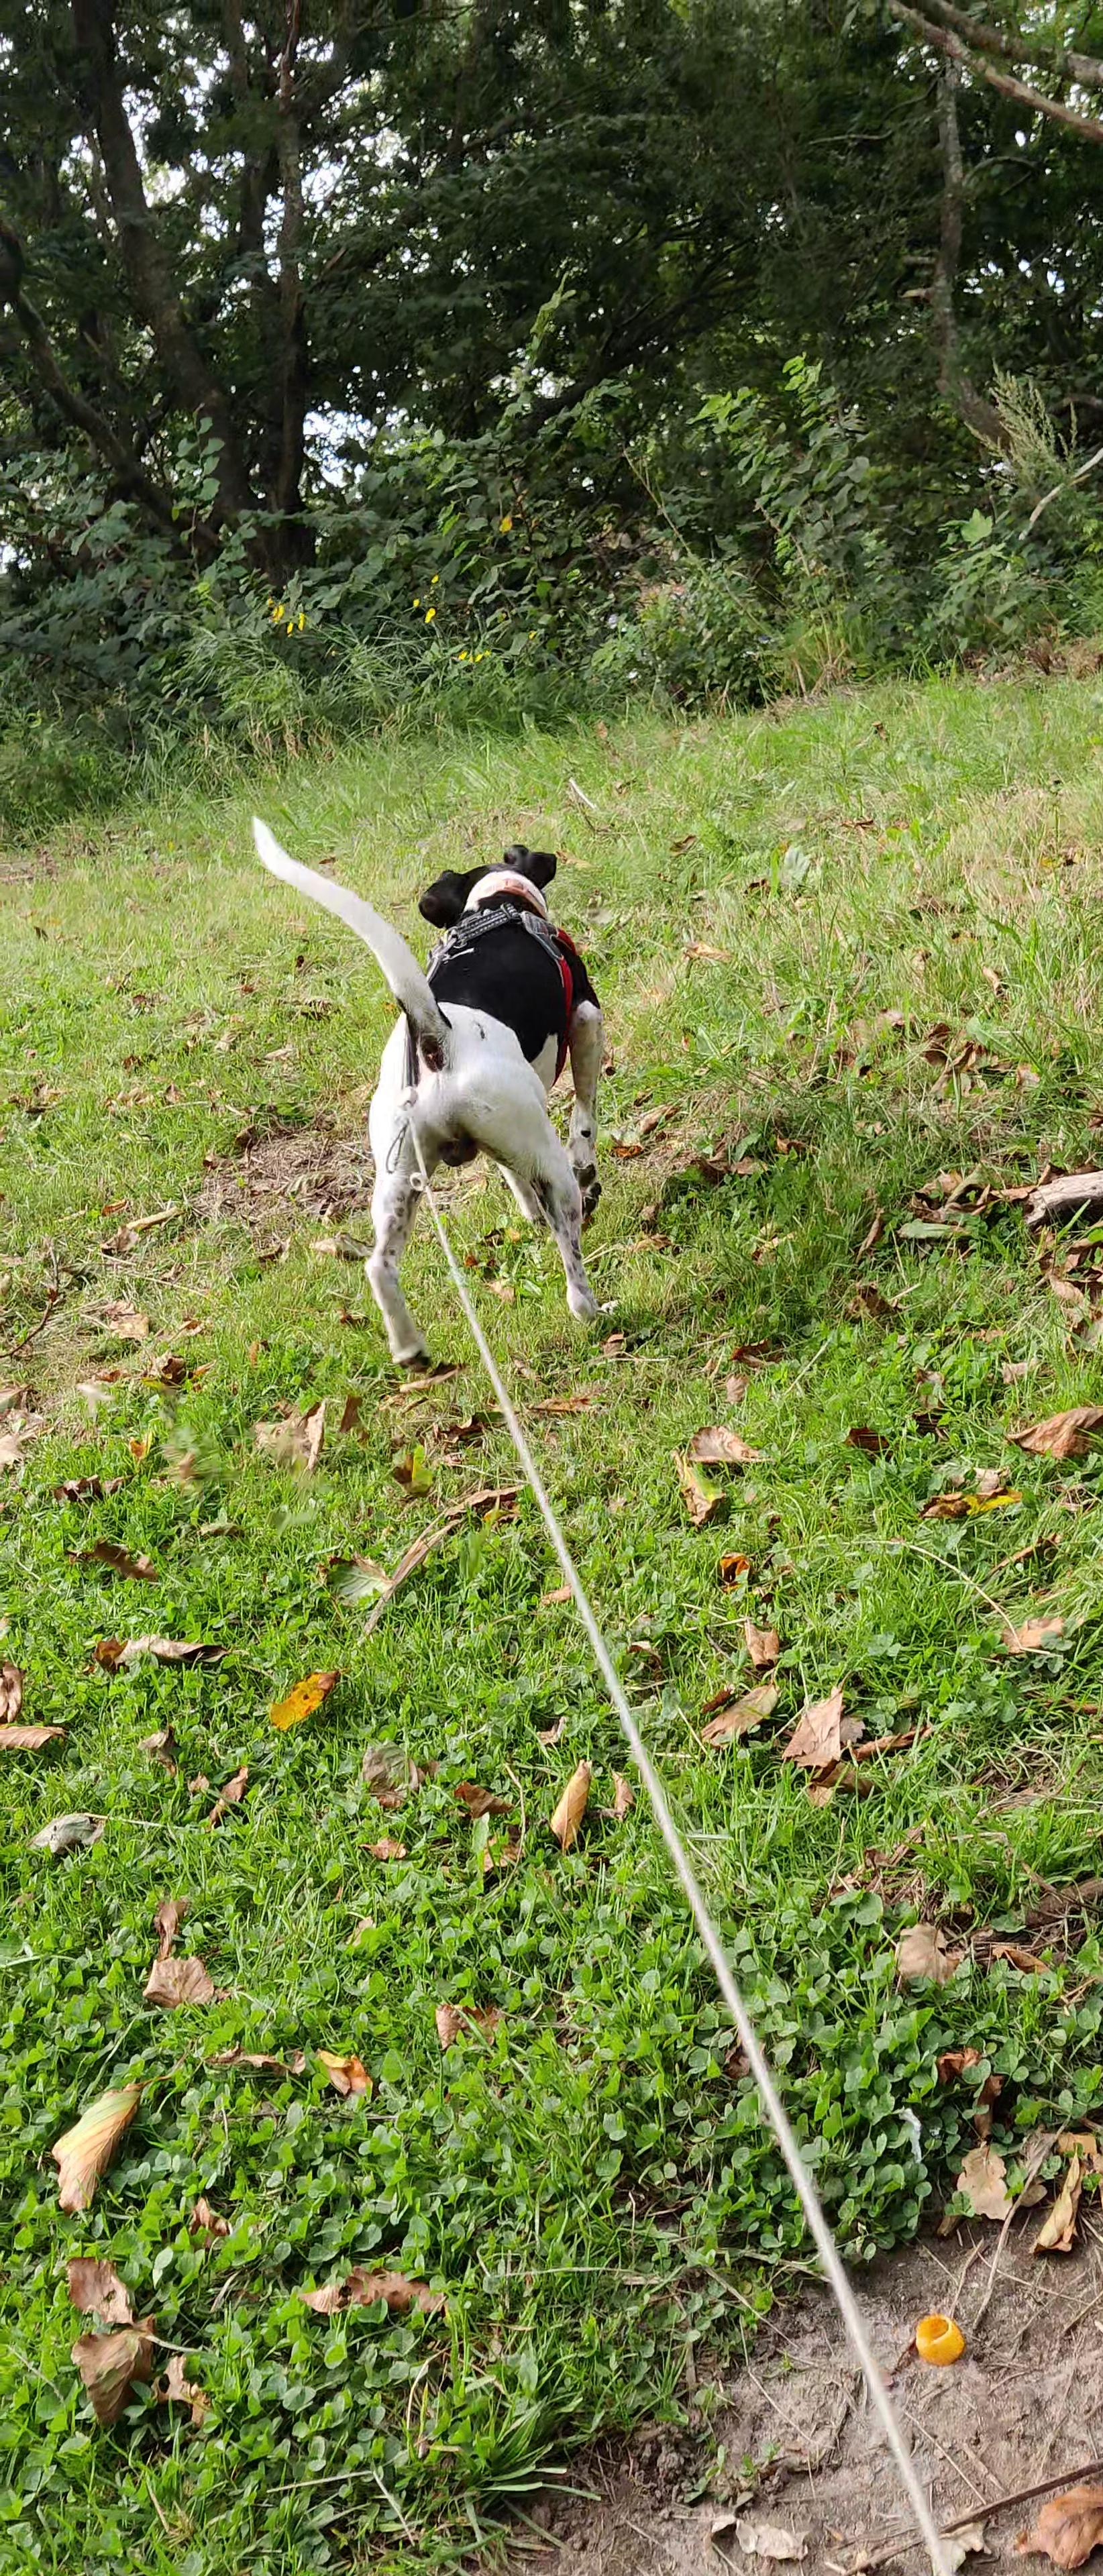Dog: (230, 787, 646, 1368)
